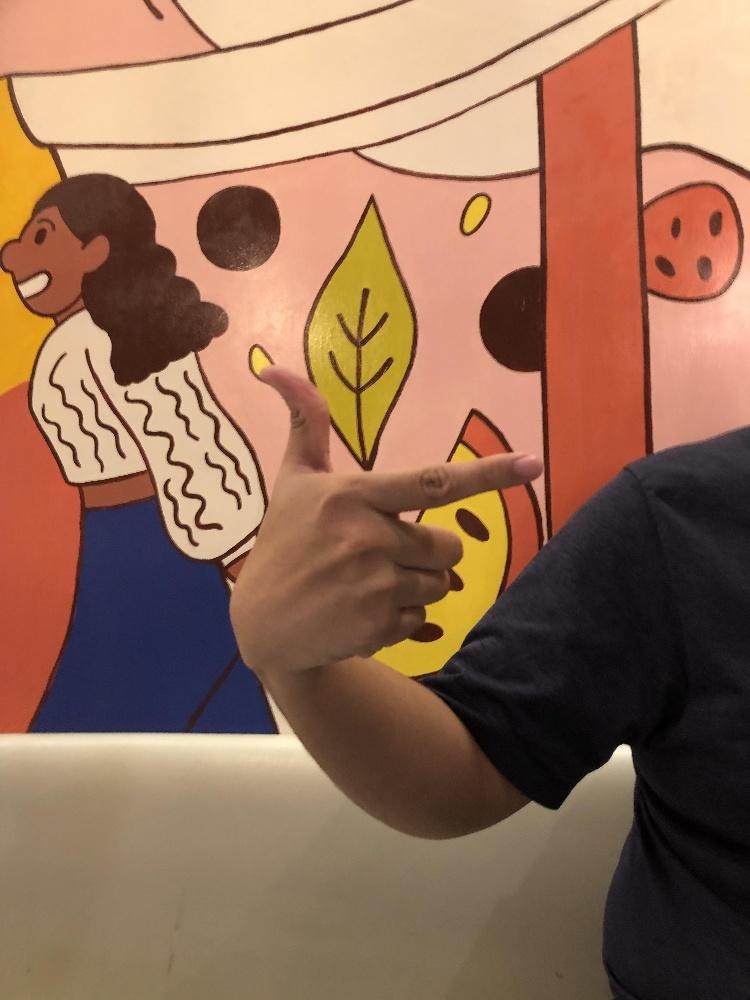g: (227, 363, 548, 671)
